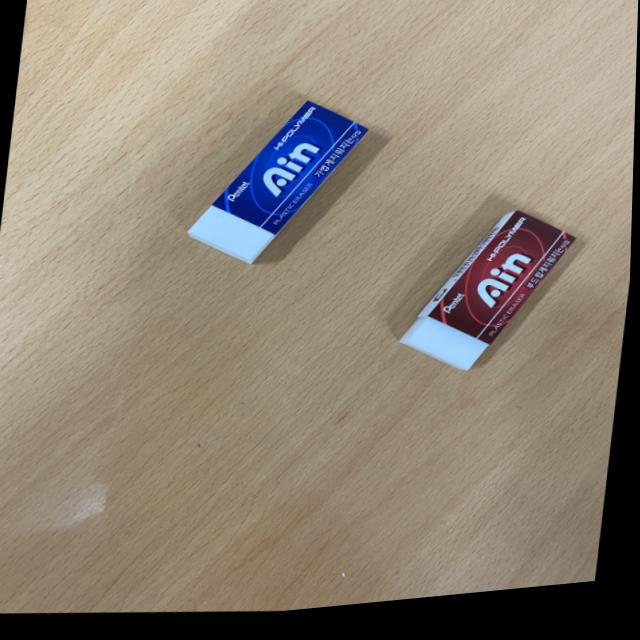blue: (184, 89, 377, 288)
red: (399, 203, 583, 399)
